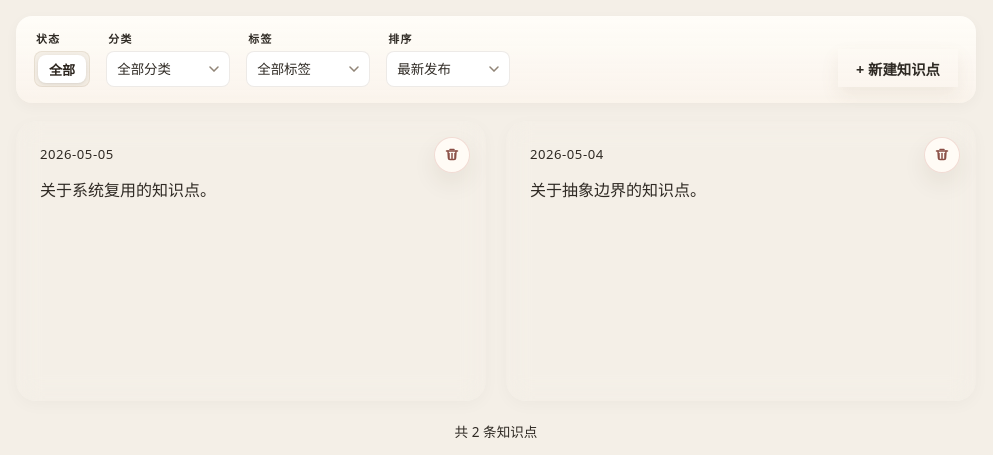
post dashboard › renders knowledge as cards only and exposes the random-display category
Expected: the button "+ 新建知识点" is shown, [838,49,958,87]
Click the button with aria-label "筛选分类": (168, 69) [106,51,230,87]
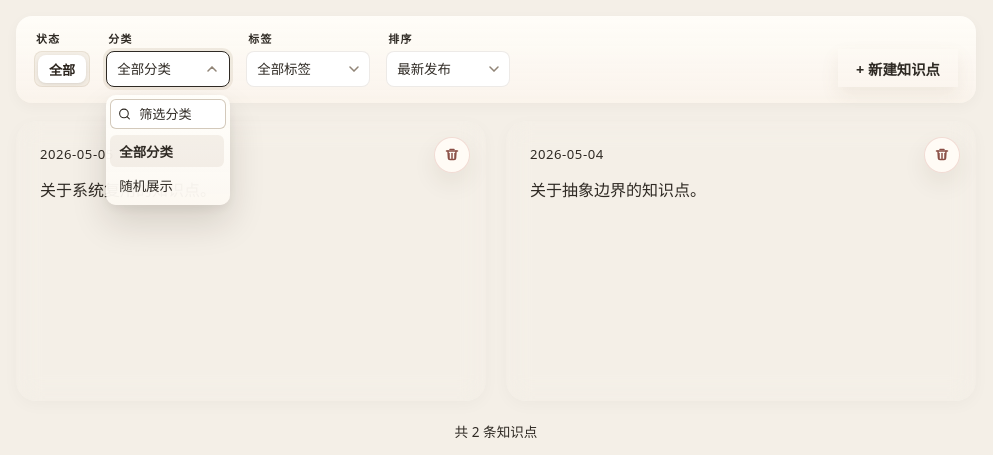
Expected: the text "关于系统复用的知识点。" is shown, [40,179,216,201]
Expected: the option "随机展示" is shown, [119,177,173,195]
